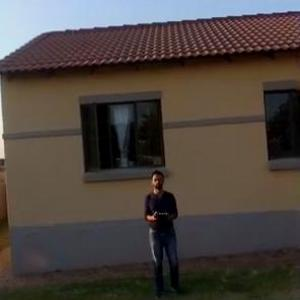follow: (144, 165, 184, 299)
